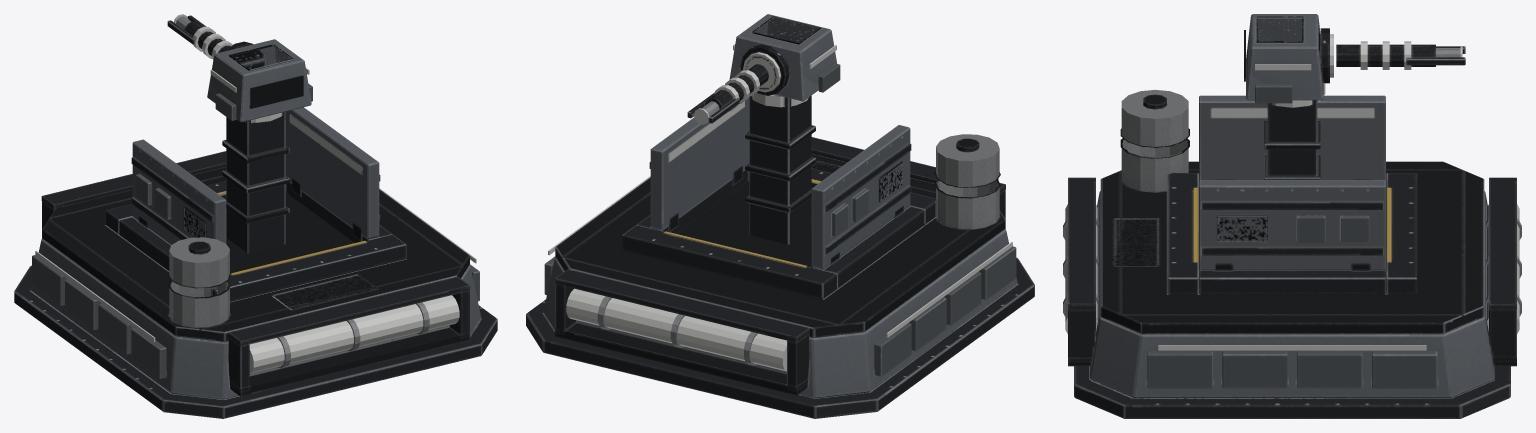
File: chs_inferno.fbx
The picture shows the model from 3 angles, left to right: view 1: azimuth 30°, elevation 25°; view 2: azimuth 150°, elevation 25°; view 3: azimuth 270°, elevation 25°; orthographic projection. The views are drawn at different scales.
Parts seen in each view (by area): view 1: base_bar, turret_bar, shell_bar, shellR_bar, shellL_bar, base_glow_power_bar, base_glow_running_bar, barrel_bar, shellR_glow_power_bar, barrel_glow_weapon_bar; view 2: base_bar, turret_bar, shell_bar, shellL_bar, shellR_bar, base_glow_power_bar, barrel_bar, base_glow_running_bar, barrel_glow_weapon_bar, turret_glow_weapon_bar, shellR_glow_power_bar; view 3: base_bar, shellR_bar, shell_bar, turret_bar, shellL_bar, barrel_bar, base_glow_running_bar, base_glow_power_bar, shellL_glow_power_bar, barrel_glow_weapon_bar.
Boxes of the visible parts, left/top/right/bottom form: base_bar: left=14, top=151, right=497, bottom=418; turret_bar: left=207, top=39, right=312, bottom=253; shell_bar: left=105, top=178, right=406, bottom=301; shellR_bar: left=285, top=107, right=380, bottom=239; shellL_bar: left=131, top=139, right=226, bottom=244; base_glow_power_bar: left=249, top=295, right=459, bottom=373; base_glow_running_bar: left=35, top=188, right=476, bottom=341; barrel_bar: left=167, top=15, right=230, bottom=56; shellR_glow_power_bar: left=289, top=114, right=362, bottom=174; barrel_glow_weapon_bar: left=174, top=14, right=232, bottom=59; base_bar: left=526, top=134, right=1034, bottom=418; turret_bar: left=729, top=14, right=840, bottom=244; shell_bar: left=622, top=166, right=936, bottom=299; shellL_bar: left=811, top=125, right=911, bottom=269; shellR_bar: left=649, top=97, right=749, bottom=229; base_glow_power_bar: left=566, top=288, right=786, bottom=371; barrel_bar: left=687, top=64, right=768, bottom=123; base_glow_running_bar: left=548, top=176, right=1012, bottom=337; barrel_glow_weapon_bar: left=694, top=70, right=759, bottom=124; turret_glow_weapon_bar: left=743, top=52, right=780, bottom=92; shellR_glow_power_bar: left=668, top=101, right=744, bottom=162; base_bar: left=1063, top=89, right=1521, bottom=418; shellR_bar: left=1199, top=180, right=1385, bottom=270; shell_bar: left=1167, top=173, right=1417, bottom=294; turret_bar: left=1244, top=14, right=1329, bottom=179; shellL_bar: left=1199, top=95, right=1385, bottom=180; barrel_bar: left=1336, top=44, right=1465, bottom=66; base_glow_running_bar: left=1158, top=345, right=1426, bottom=350; base_glow_power_bar: left=1065, top=204, right=1519, bottom=333; shellL_glow_power_bar: left=1211, top=108, right=1373, bottom=117; barrel_glow_weapon_bar: left=1360, top=41, right=1462, bottom=69.
Size of the model in its own units: 1400 by 1255 by 1471.
Materials: 2 (2 with a texture image).
